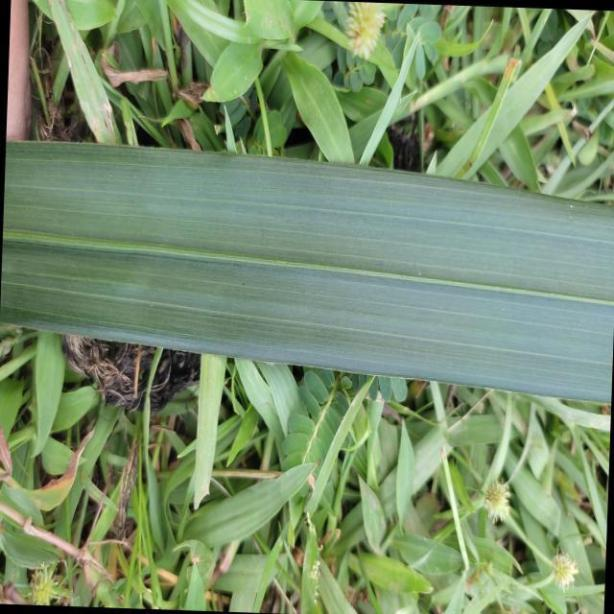Healthy: (5, 136, 614, 416)
